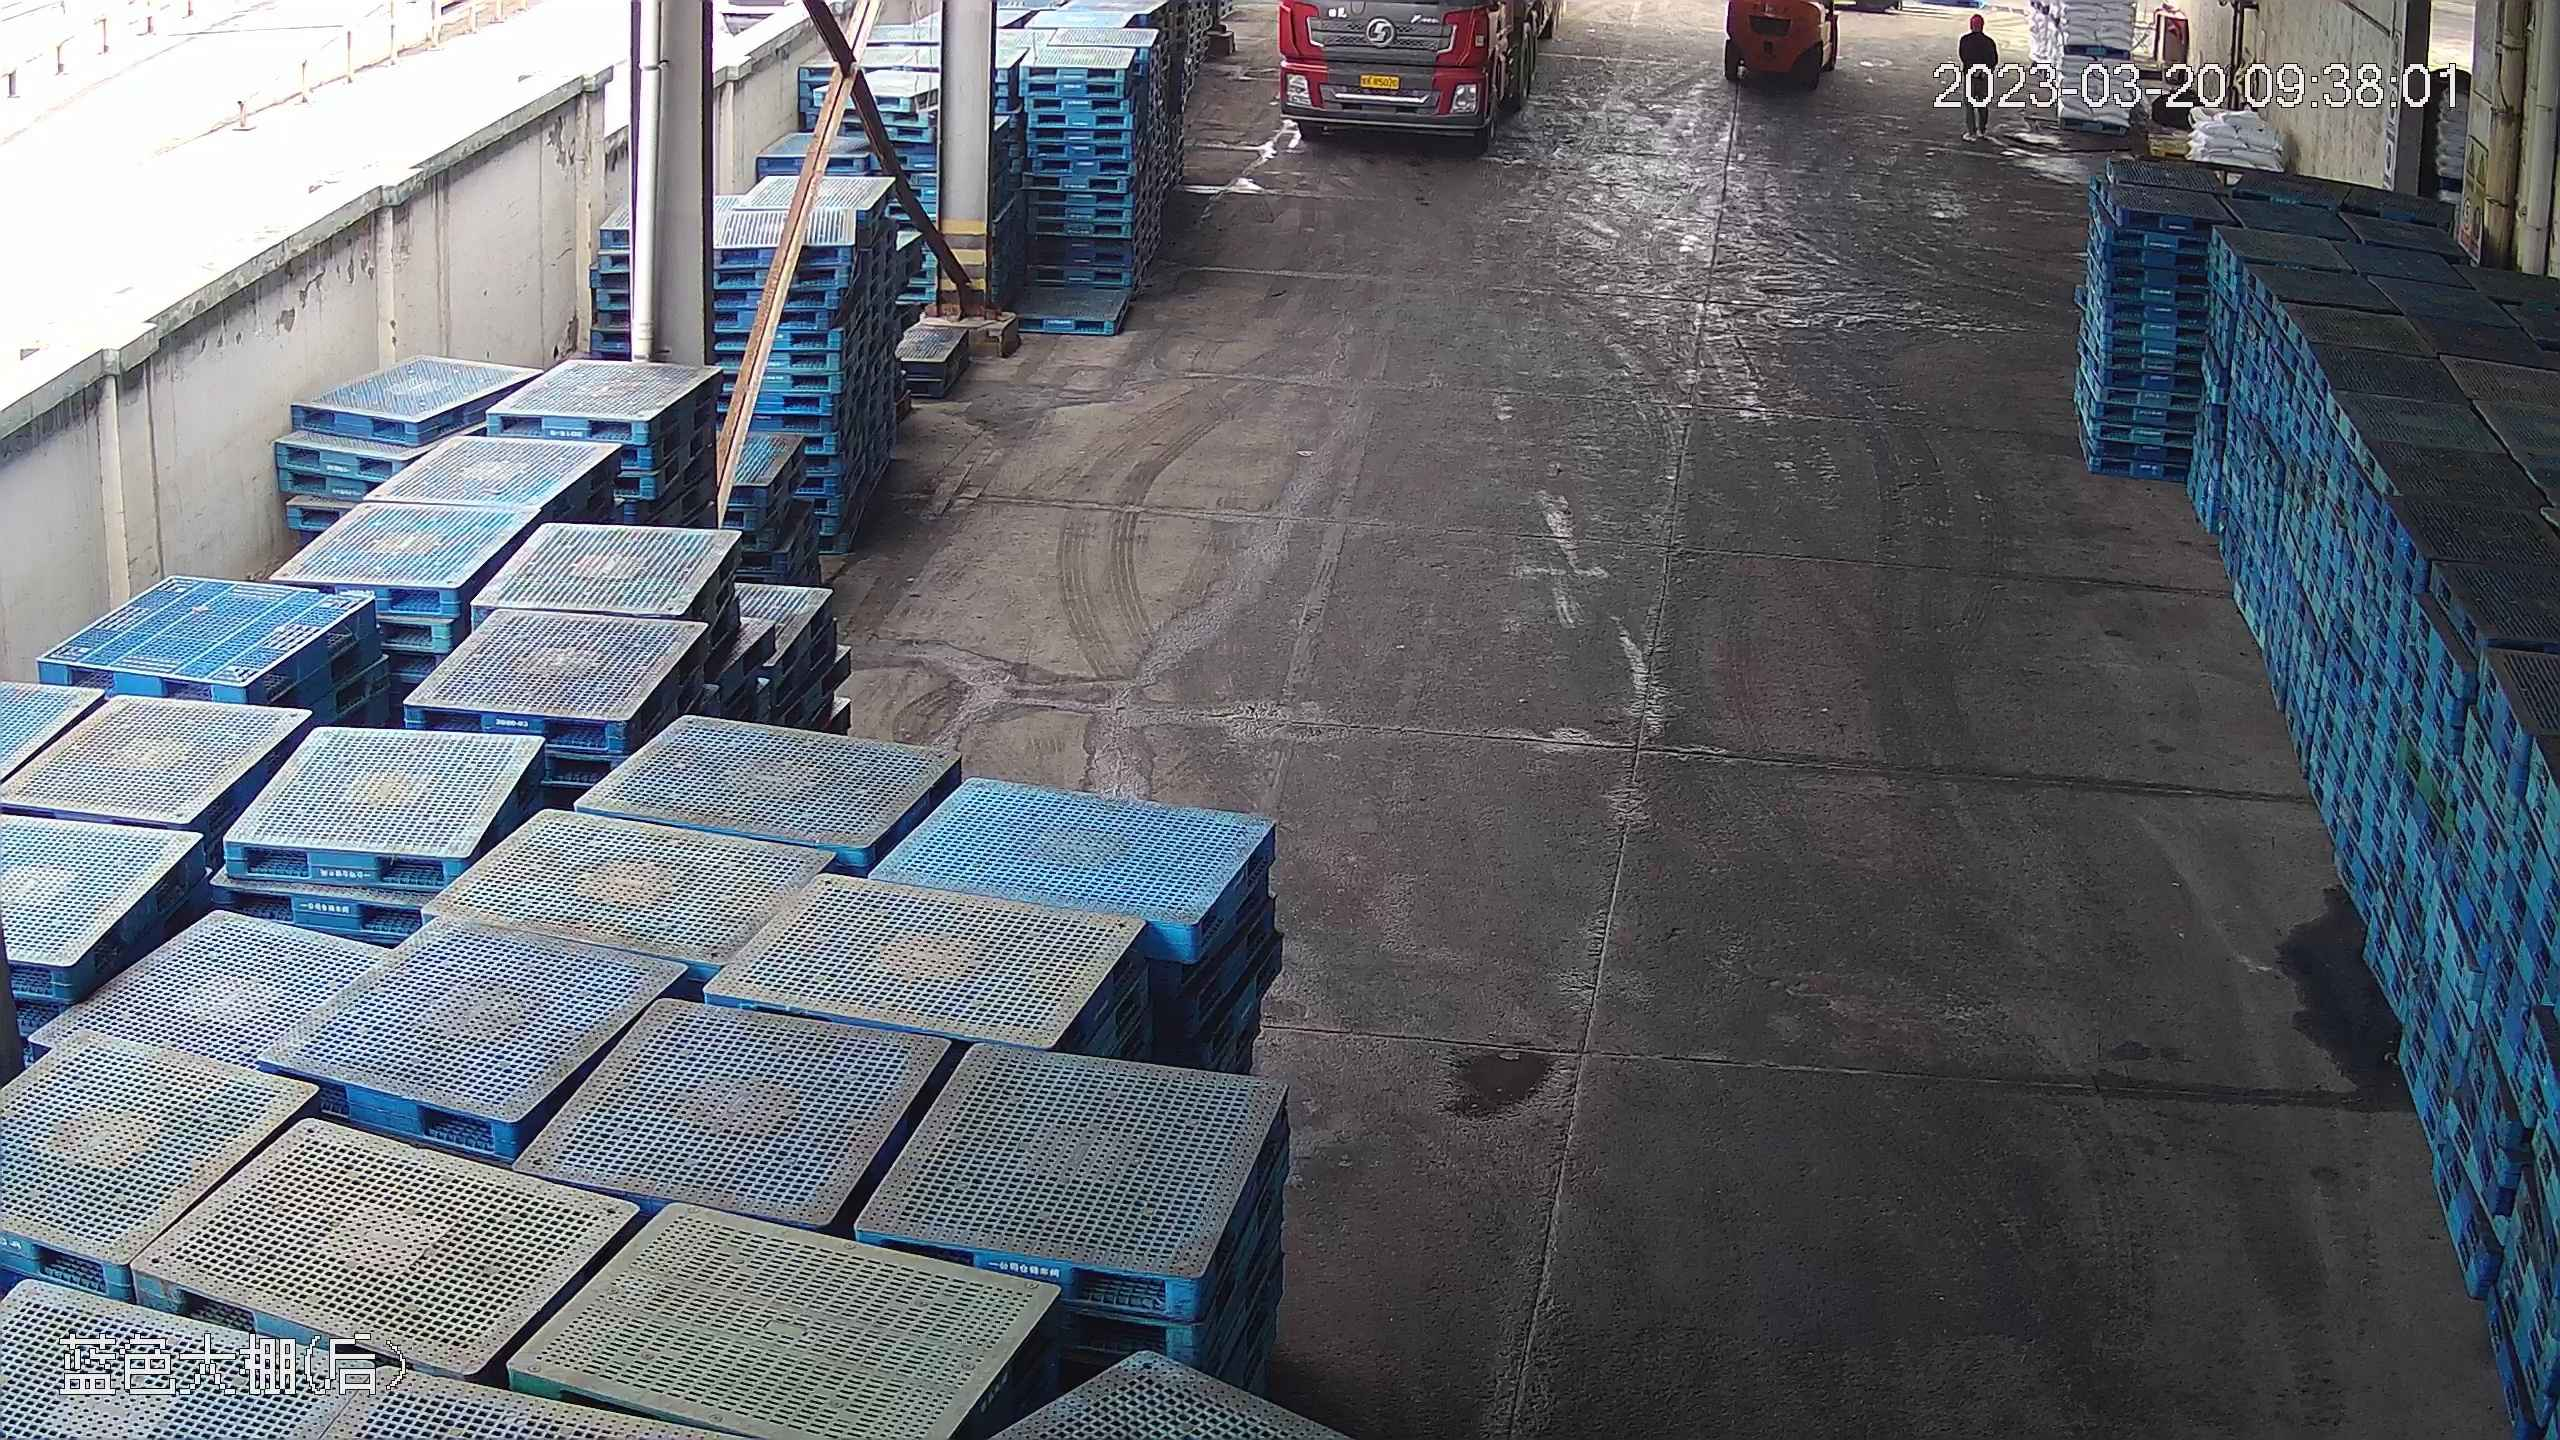head: (1961, 12, 1995, 53)
helmet: (1968, 13, 1985, 28)
people: (1952, 10, 1993, 142)
truck: (1280, 2, 1572, 135), (1718, 2, 1852, 90)
